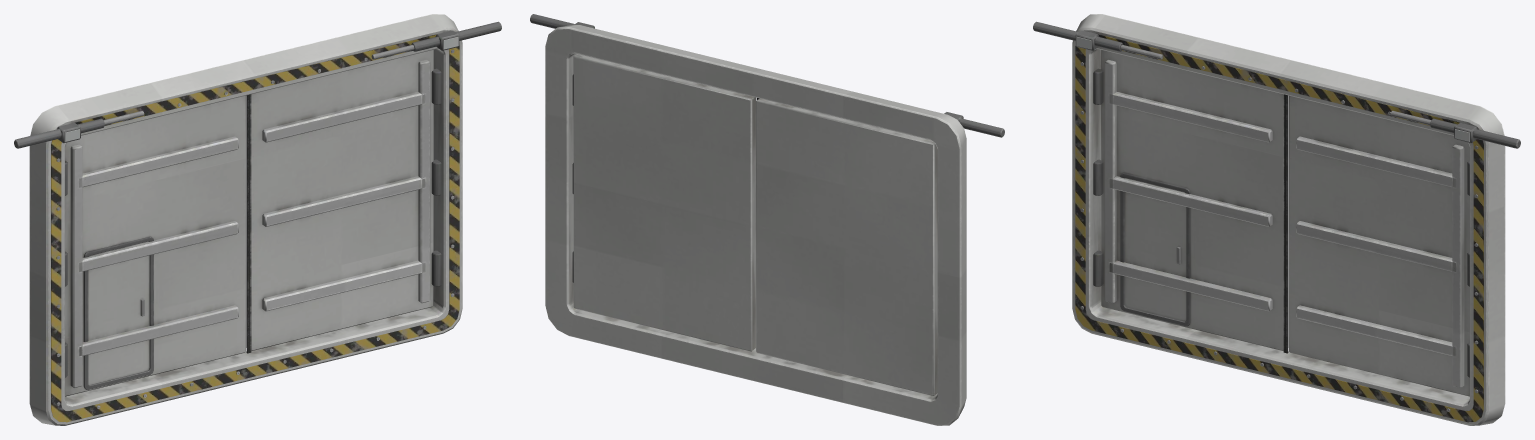
The model's file is cargoHatch.glb.
3 views of the same model, side by side, from view 1: azimuth 30°, elevation 25°; view 2: azimuth 150°, elevation 25°; view 3: azimuth 330°, elevation 25° (orthographic). The views are drawn at different scales.
Parts seen in each view (by area): view 1: cargoHatch; view 2: cargoHatch; view 3: cargoHatch.
Part boxes in pixels (x1=…): cargoHatch: x1=14, y1=14, x2=501, y2=425; cargoHatch: x1=530, y1=14, x2=1004, y2=425; cargoHatch: x1=1033, y1=14, x2=1520, y2=425.
Size of the model in its own units: 7.8 by 4.89 by 0.5399.
Materials: 1 (1 with a texture image).
